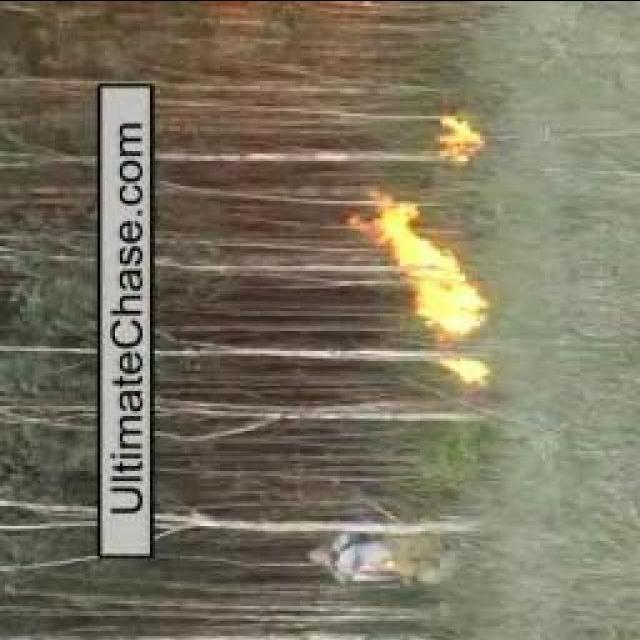Fire: (348, 182, 488, 337), (432, 114, 498, 161), (437, 346, 495, 391)
